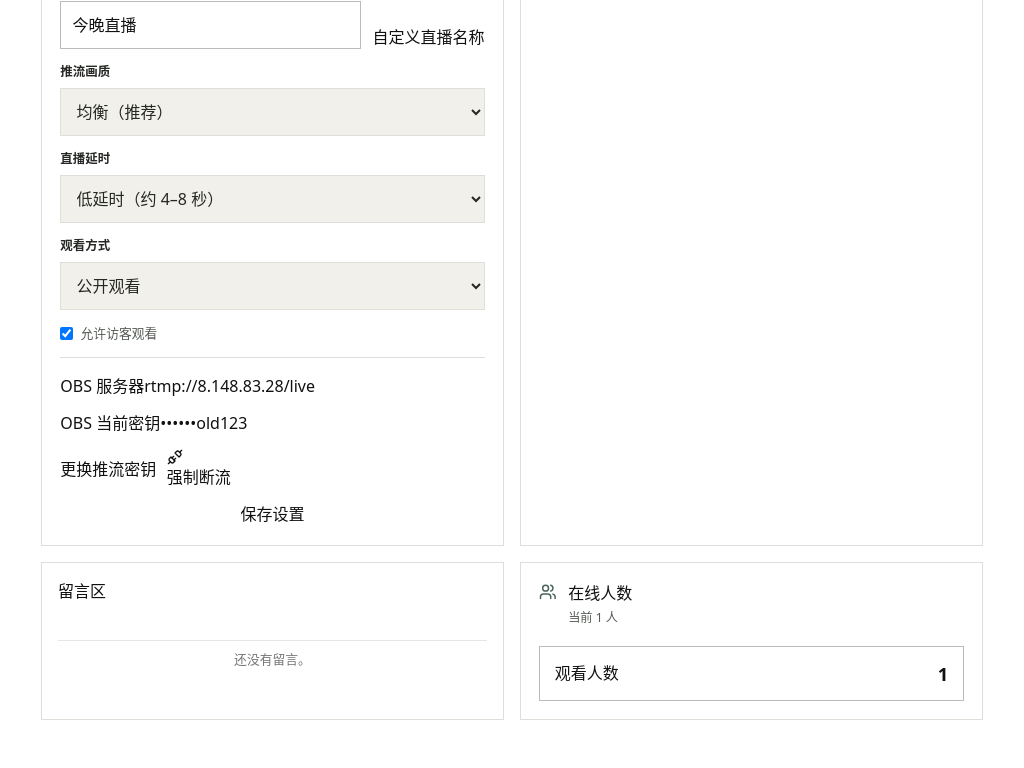
it: live administrator workspace › shows visitor region, device, browser and watch time without storage paths
The image size is (1024, 768).
(page scrolled)
Click the button with aria-label "观看人数：1".
click(587, 673)  # box [539, 646, 964, 701]
(page scrolled)
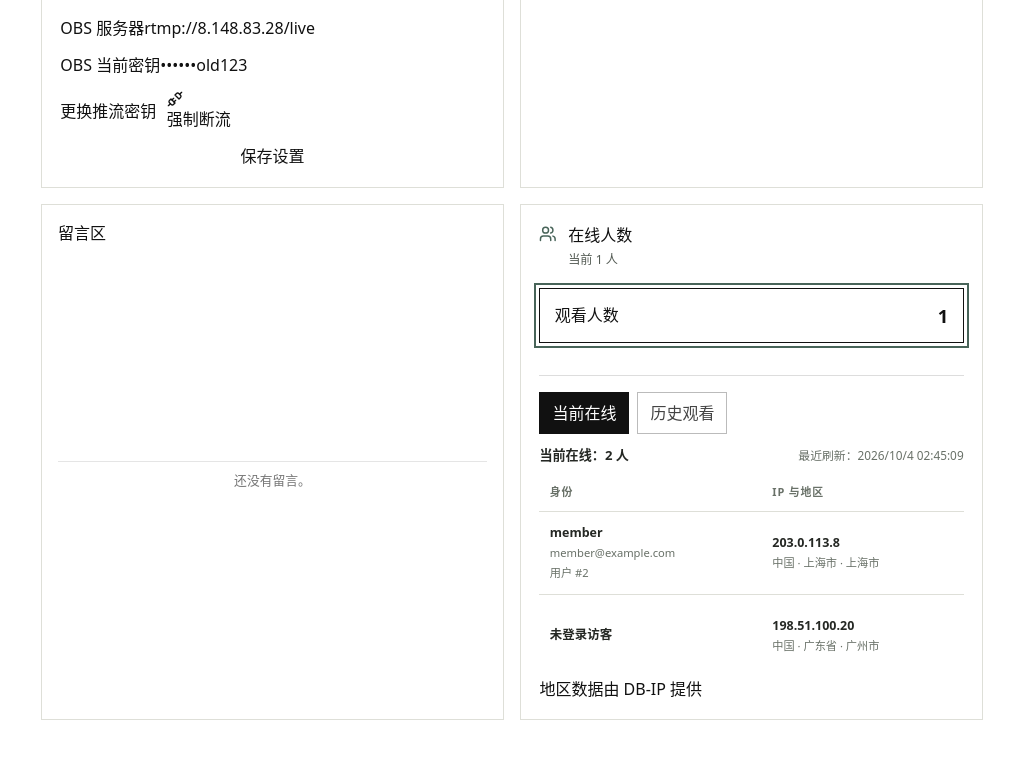
Expected: the text "member" is shown, [550, 524, 603, 541]
Expected: the text "member@example.com" is shown, [550, 545, 675, 560]
Expected: the text "用户 #2" is shown, [550, 565, 589, 580]
